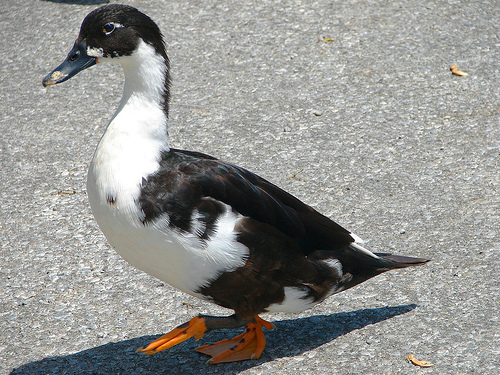duck: (26, 1, 461, 375)
